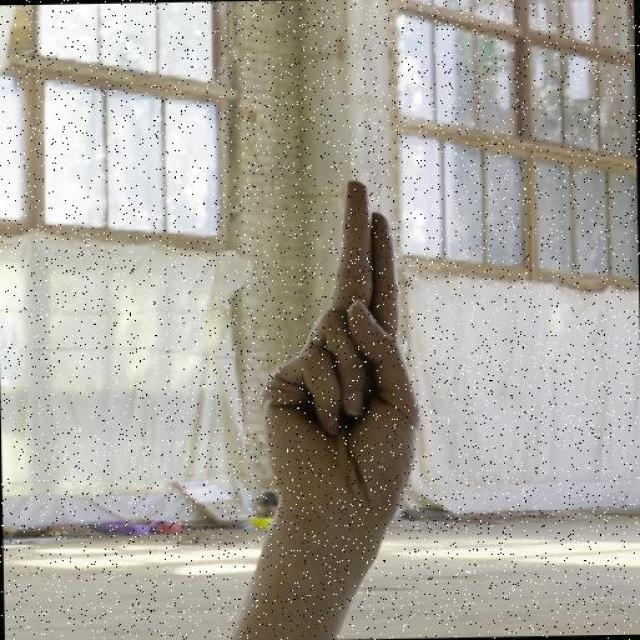U: (252, 177, 430, 533)
